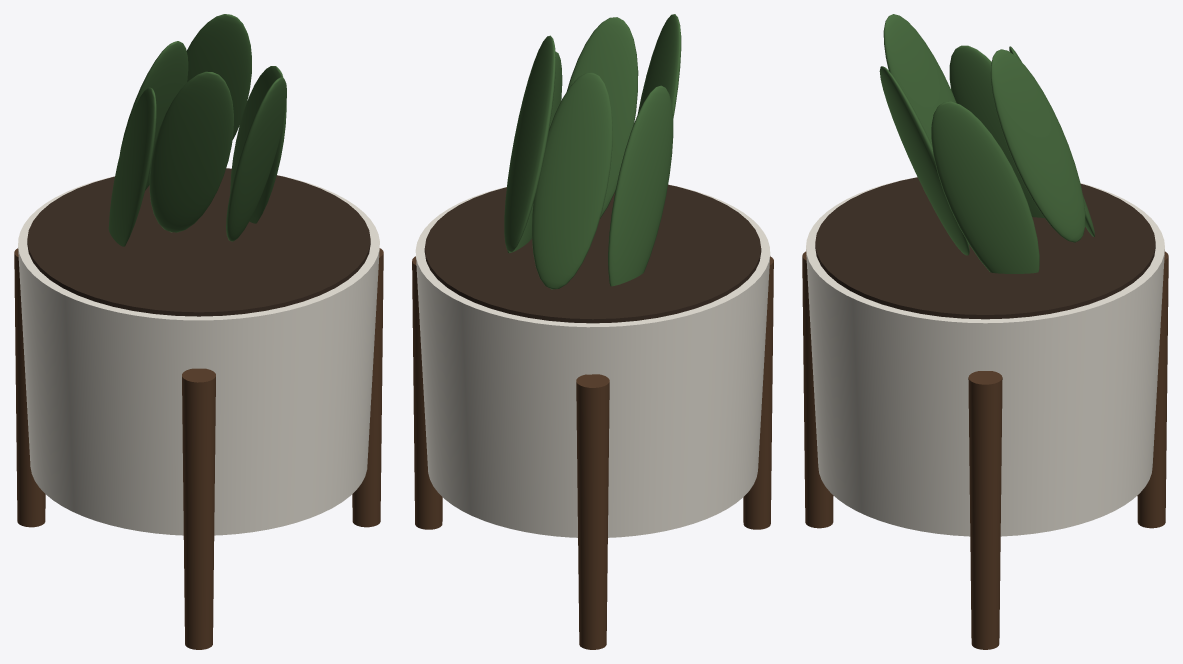
The model's file is ceramic_planter.glb.
The picture shows the model from 3 angles, left to right: view 1: azimuth 30°, elevation 25°; view 2: azimuth 150°, elevation 25°; view 3: azimuth 270°, elevation 25°; orthographic projection. The views are drawn at different scales.
Size of the model in its own units: 1.25 by 1.89 by 1.18.
